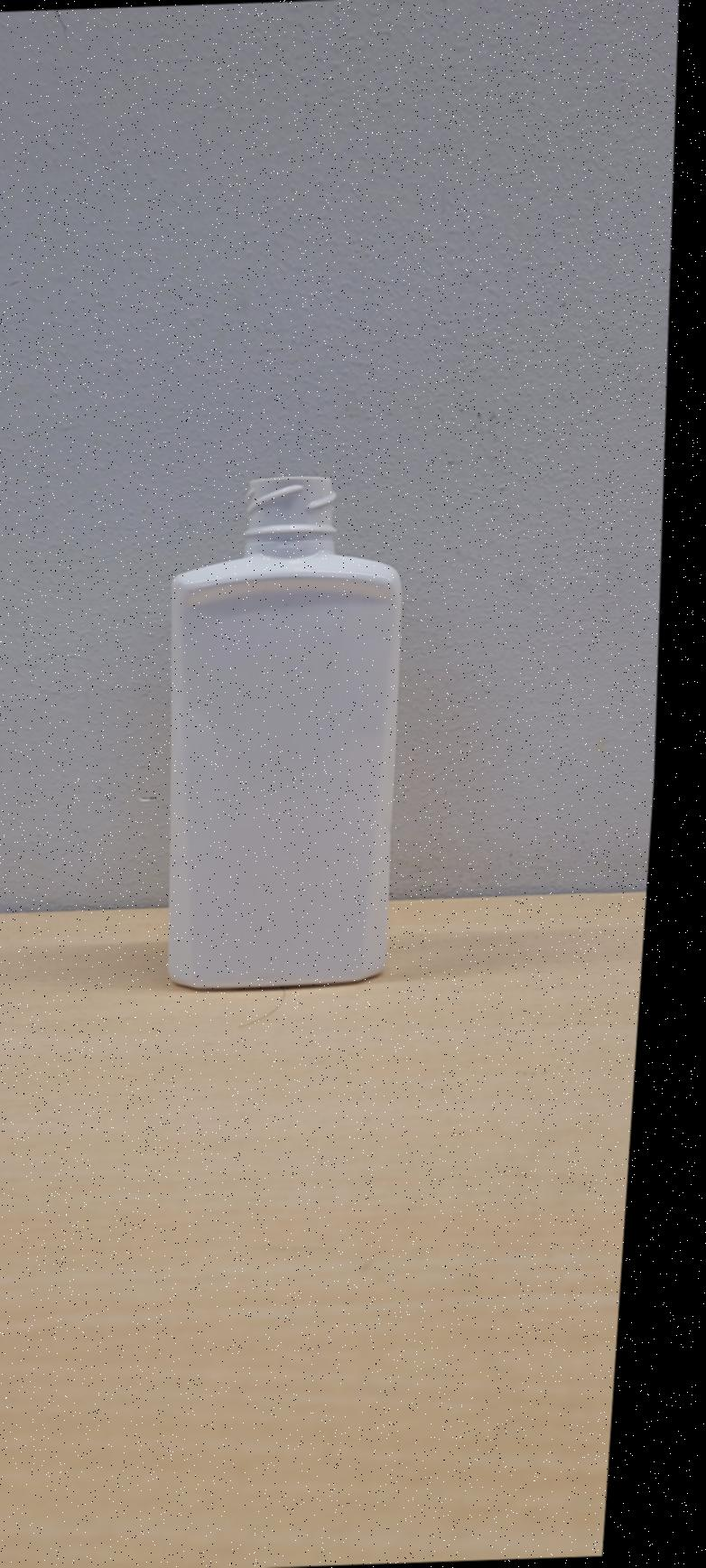bottle: (168, 470, 402, 991)
